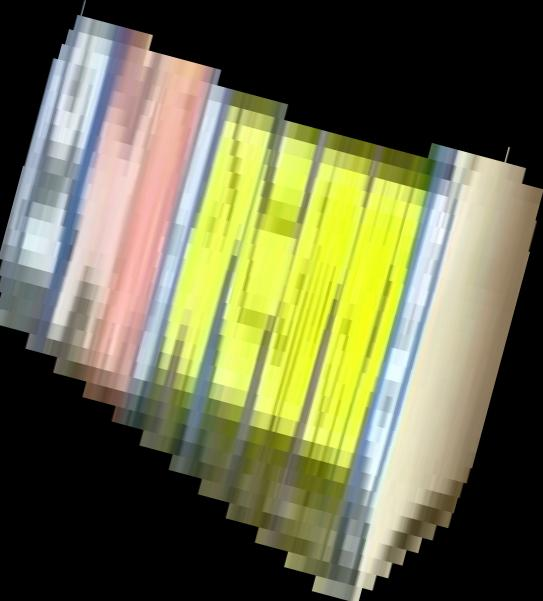flat: (1, 1, 543, 601)
